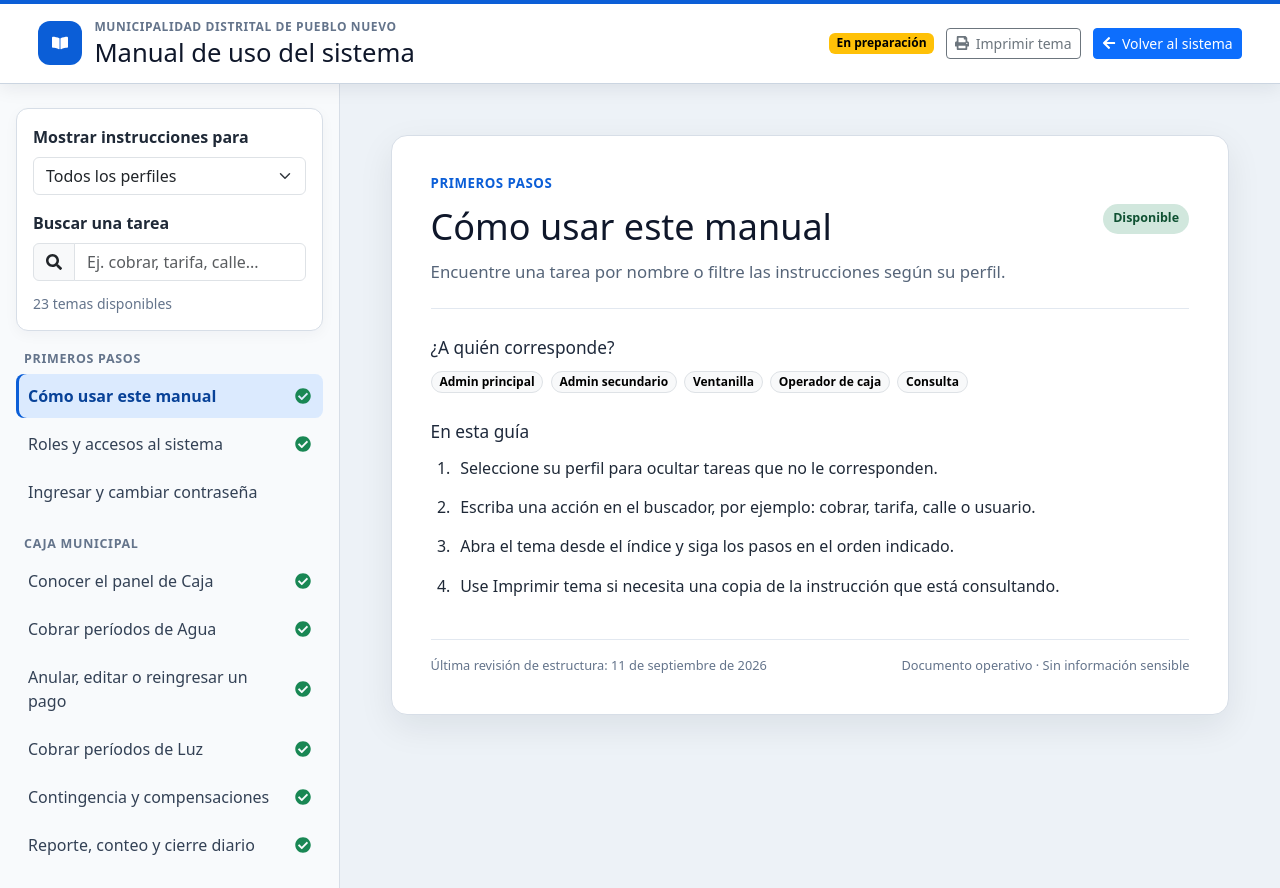
Test: ManualApp › muestra el procedimiento de Caja y su captura anonimizada
This screenshot has width=1280, height=888.
What coordinates should you click on to do the following:
click the button "Cobrar períodos de Agua"
I would click on:
 (170, 629)
Its box is left=16, top=607, right=323, bottom=651.
(page scrolled)
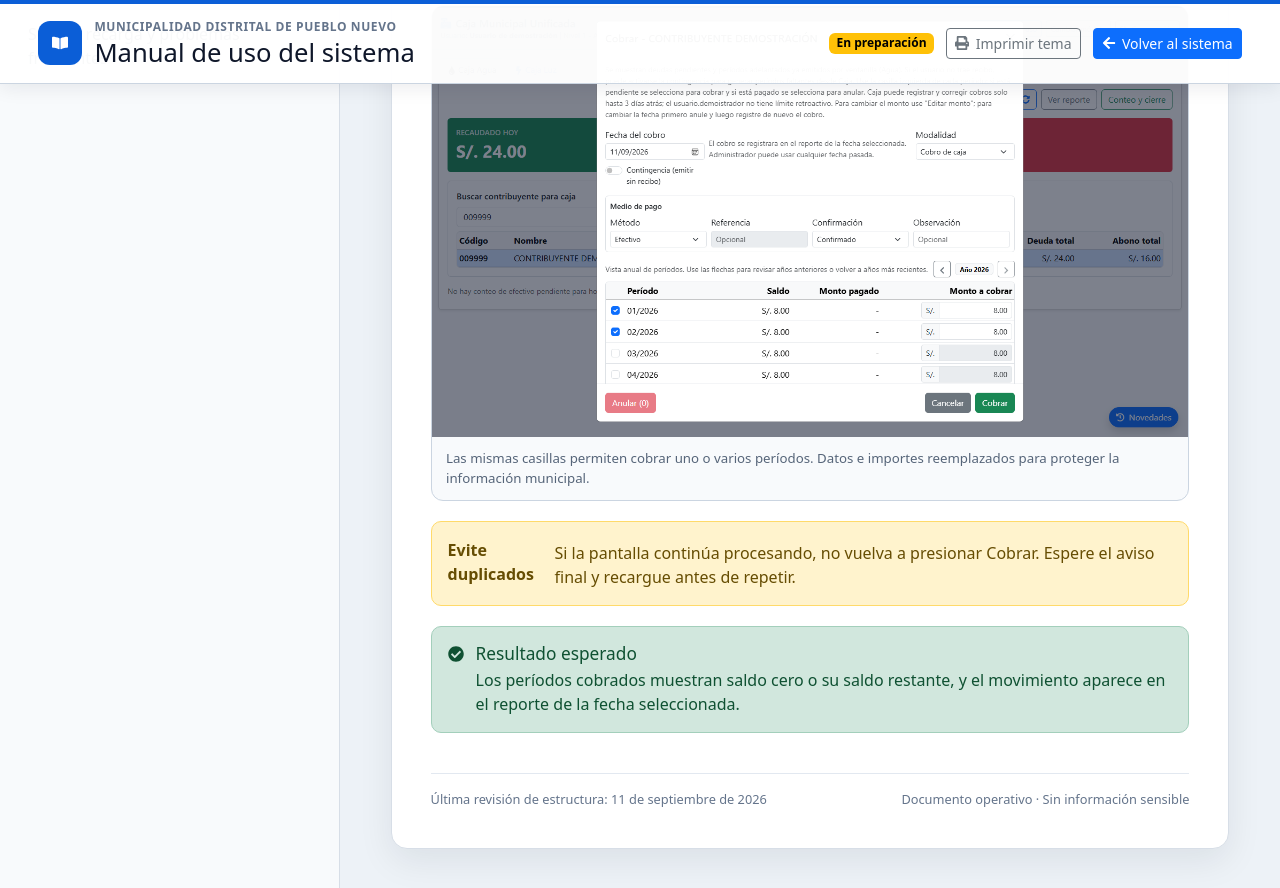
Result: the text "Evite duplicados" is shown at left=448, top=538, right=542, bottom=589
